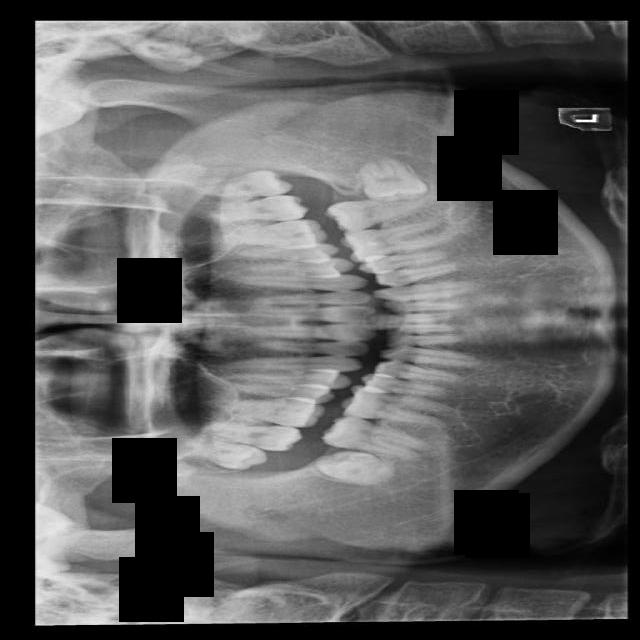3M ESPE Implant: (180, 422, 270, 480)
BioHorizons Implant: (194, 193, 310, 224)
BioLife Implant: (190, 167, 294, 203)
Biomet 3i Implant: (357, 155, 429, 202)
Blue Sky Bio Implant: (324, 184, 449, 236)
Caries: (187, 419, 305, 452)
Implant: (319, 412, 433, 460)
Keystone Dental Implant: (313, 442, 396, 489)
